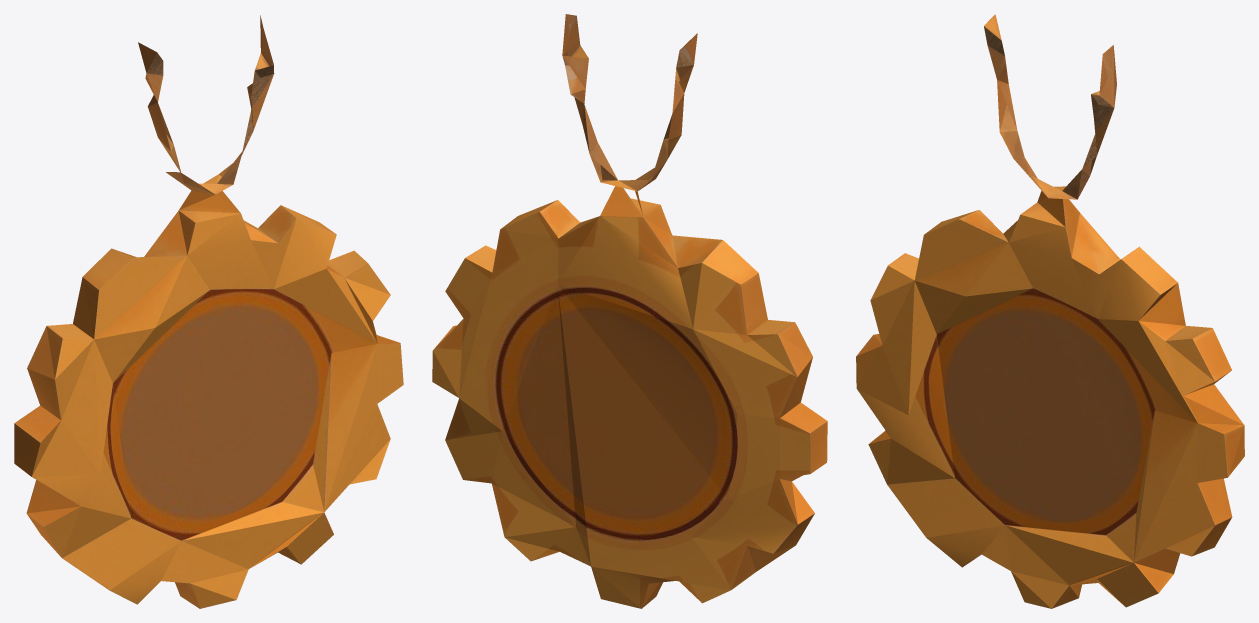
File: medalhao-engrenagem.glb
3 renders of one model, left to right at view 1: azimuth 30°, elevation 25°; view 2: azimuth 150°, elevation 25°; view 3: azimuth 330°, elevation 25°, orthographic.
Size of the model in its own units: 1.31 by 1.9 by 0.205.
1 material, 1 textured.
